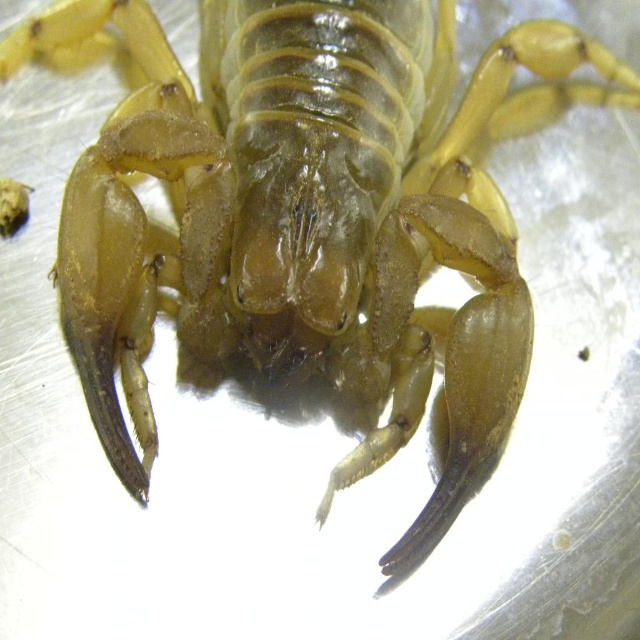Scorpion: (0, 0, 640, 577)
